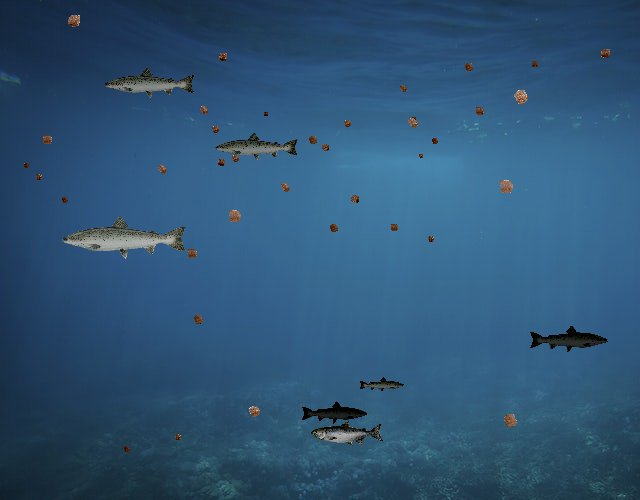Fish: (60, 214, 189, 260), (103, 66, 197, 100), (214, 131, 300, 162), (528, 324, 609, 353), (311, 421, 384, 447), (301, 400, 369, 425), (359, 377, 406, 393)
Pellet: (242, 399, 267, 424), (459, 58, 478, 77), (339, 115, 356, 132), (170, 430, 185, 445), (423, 232, 438, 246), (120, 442, 134, 456), (32, 170, 46, 184)
